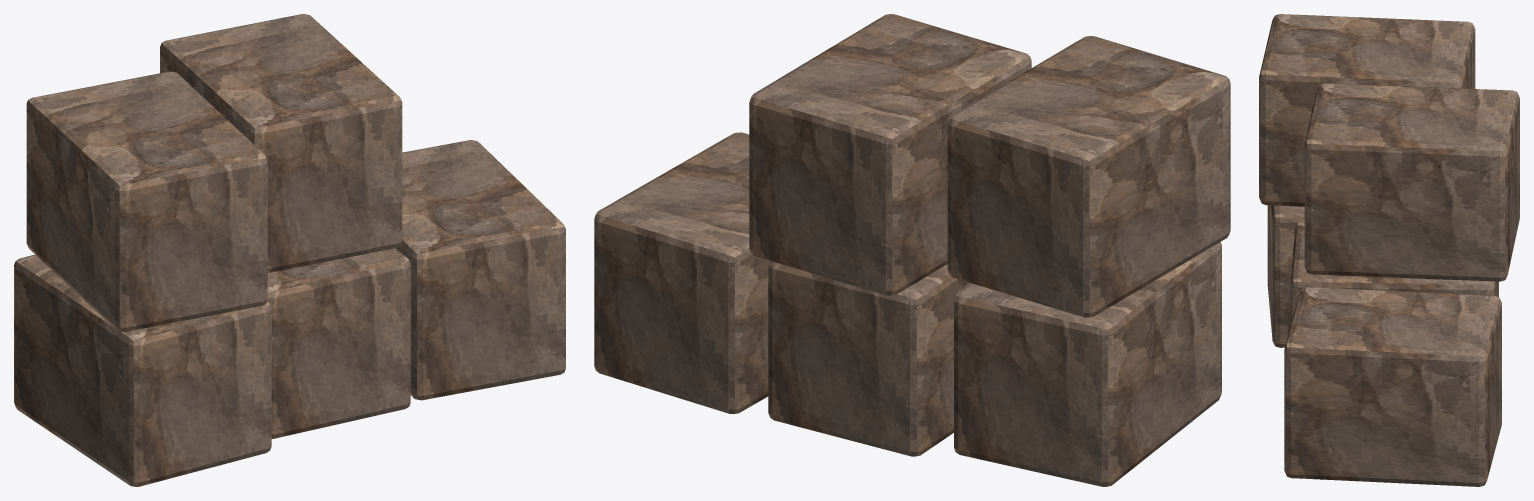
The model's file is pile-stone.glb.
3 renders of one model, left to right at view 1: azimuth 30°, elevation 25°; view 2: azimuth 150°, elevation 25°; view 3: azimuth 270°, elevation 25°, orthographic. The views are drawn at different scales.
Parts seen in each view (by area): view 1: block.004, block.001, block, block.003, block.002; view 2: block.004, block, block.001, block.003, block.002; view 3: block.003, block, block.004, block.002, block.001.
Boxes of the visible parts, <box> form: block.004: <box>26,71,267,331</box>; block.001: <box>14,254,271,486</box>; block: <box>160,14,402,272</box>; block.003: <box>395,140,565,400</box>; block.002: <box>267,248,410,438</box>; block.004: <box>947,36,1230,317</box>; block: <box>749,14,1031,295</box>; block.001: <box>954,242,1221,486</box>; block.003: <box>594,132,769,414</box>; block.002: <box>768,261,969,456</box>; block.003: <box>1284,287,1501,486</box>; block: <box>1304,83,1519,281</box>; block.004: <box>1259,14,1475,206</box>; block.002: <box>1290,221,1498,324</box>; block.001: <box>1267,205,1304,347</box>.
Size of the model in its own units: 1.32 by 0.81 by 0.7026.
1 material, 1 textured.
